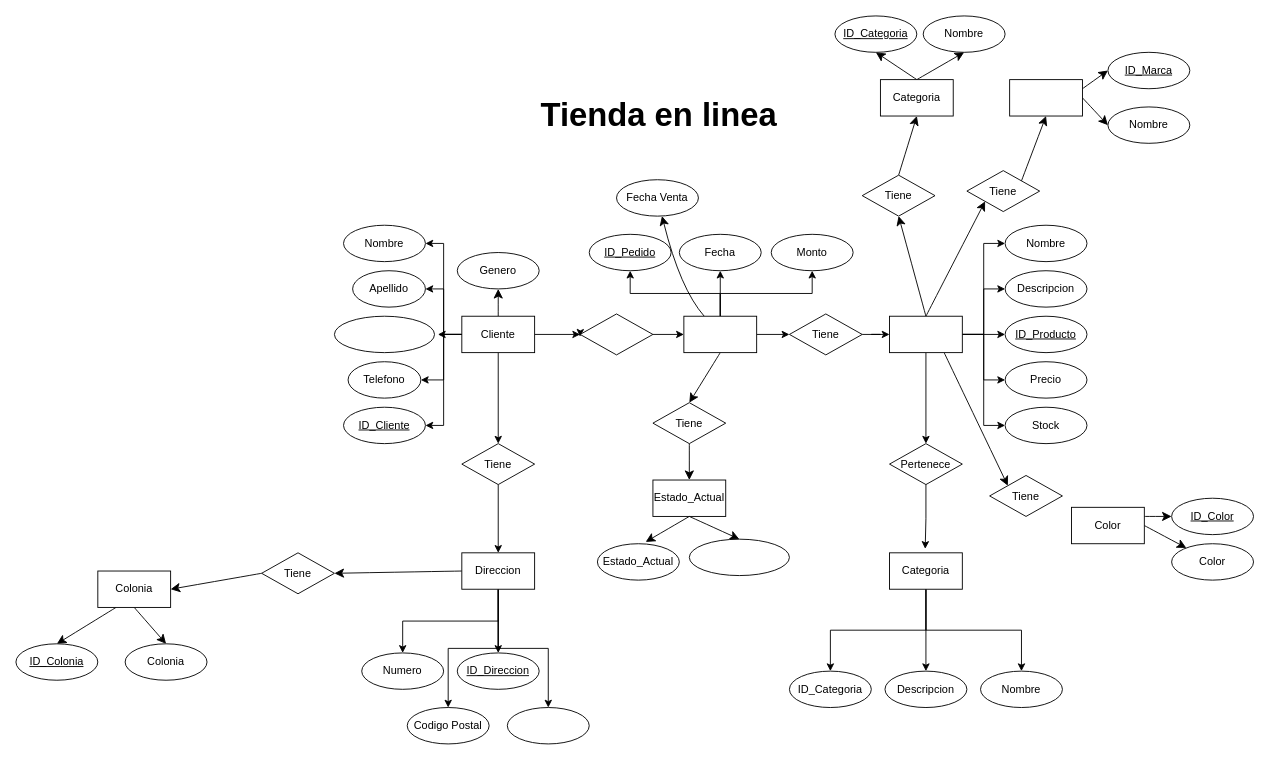
Some shapes in this 1269 by 767 pixel diagram are drawn without their labels. The centre of each missing label's shape, as x and y in pixels:
"Calle" belongs at (547,725).
"Correo_Electronico" belongs at (384,334).
"ID_Estado_Actual" belongs at (738,557).
"Marca" belongs at (1045,97).
"Pedido" belongs at (720,334).
"Producto" belongs at (925,334).
"Realiza" belongs at (616,334).
